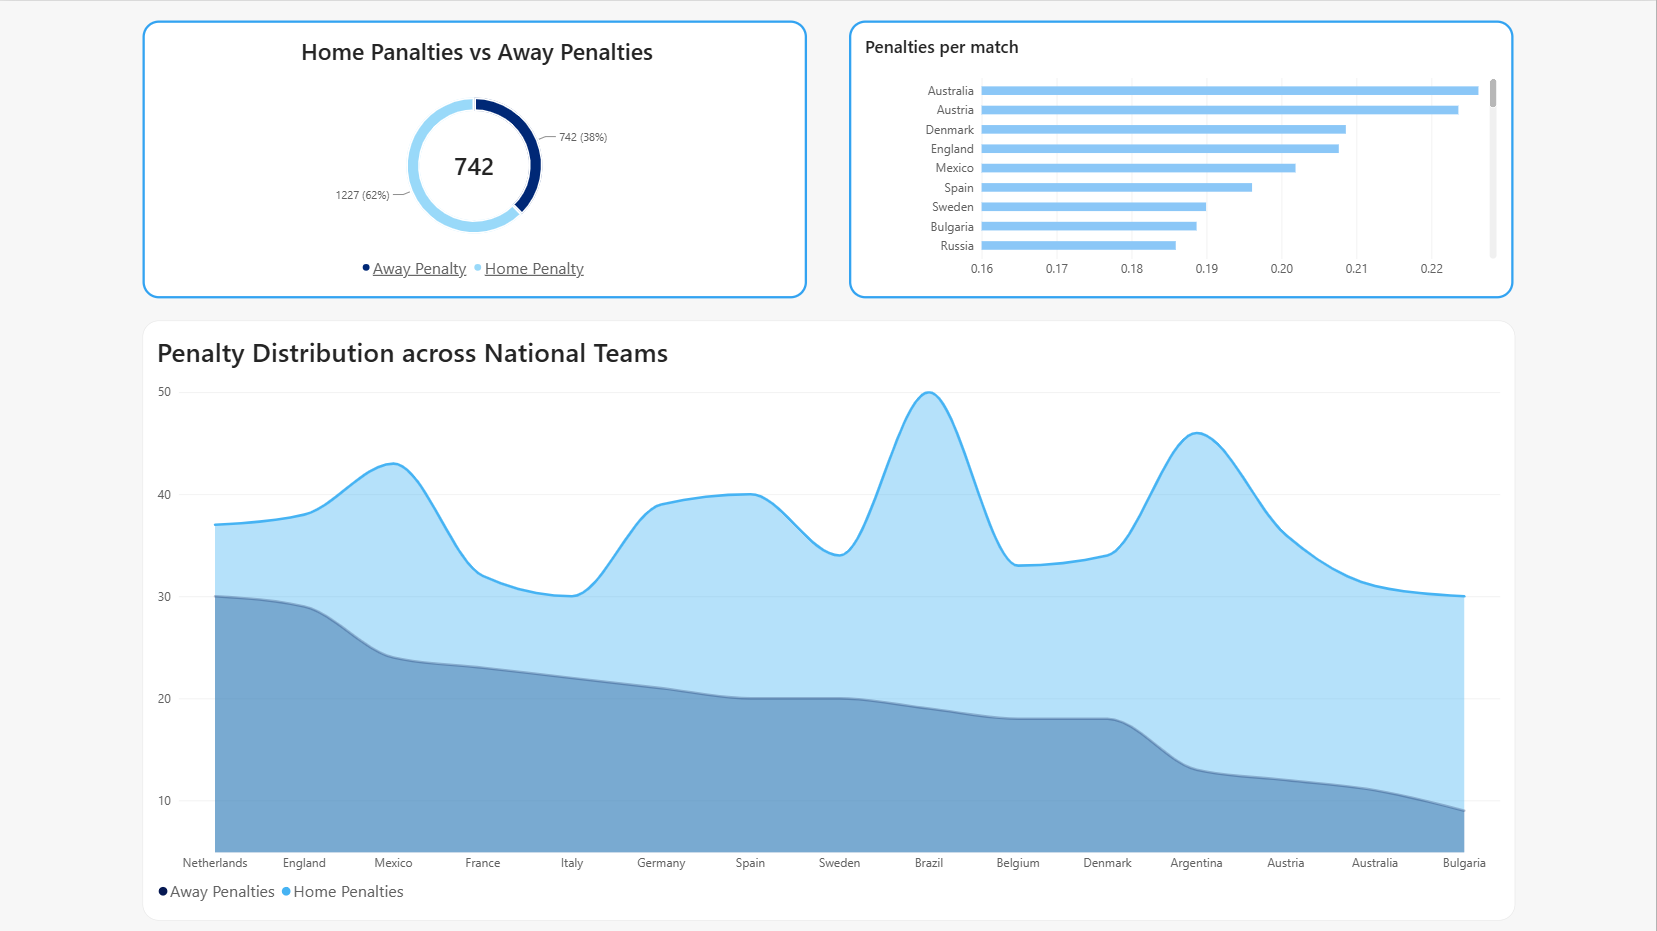

The page's visual inventory and layout, read from the dashboard file:
{"tool":"powerbi","page":{"name":"Penalty info","canvas":[1920,1080],"ordinal":2},"visuals":[{"type":"donutChart","title":"Home Panalties vs Away Penalties","fields":{"Y":["Sum(penalties.away_penalty)","Sum(penalties.home_penalty)"]},"box":[164.7,23.3,769.7,322.2],"z":0},{"type":"areaChart","title":"Penalty Distribution across National Teams","fields":{"Category":["penalties.team"],"Y":["Sum(penalties.away_penalty)","Sum(penalties.home_penalty)"]},"box":[165.1,370.2,1590.4,695.2],"z":1},{"type":"barChart","title":"Penalties per match","fields":{"Category":["penalties.team"],"Y":["Sum(penalties.penalty_pm_home)"]},"box":[984.5,23.3,769.7,322.2],"z":2}]}

Visuals, with their boxes in screenshot pixels (x1, y1, x2, y2), scaled from the page's 1920x1080 canvas onto the 1657x931 screenshot:
"Home Panalties vs Away Penalties" donutChart: x1=142, y1=20, x2=806, y2=298
"Penalty Distribution across National Teams" areaChart: x1=142, y1=319, x2=1515, y2=918
"Penalties per match" barChart: x1=850, y1=20, x2=1514, y2=298
